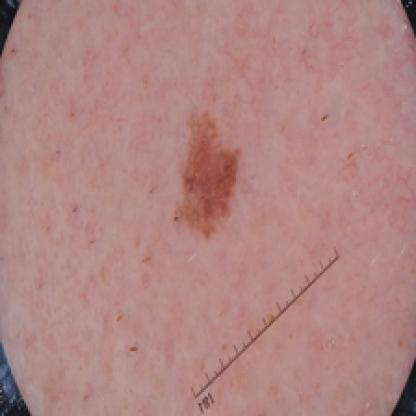Skin_Cancer-Malignant: (178, 107, 245, 240)
